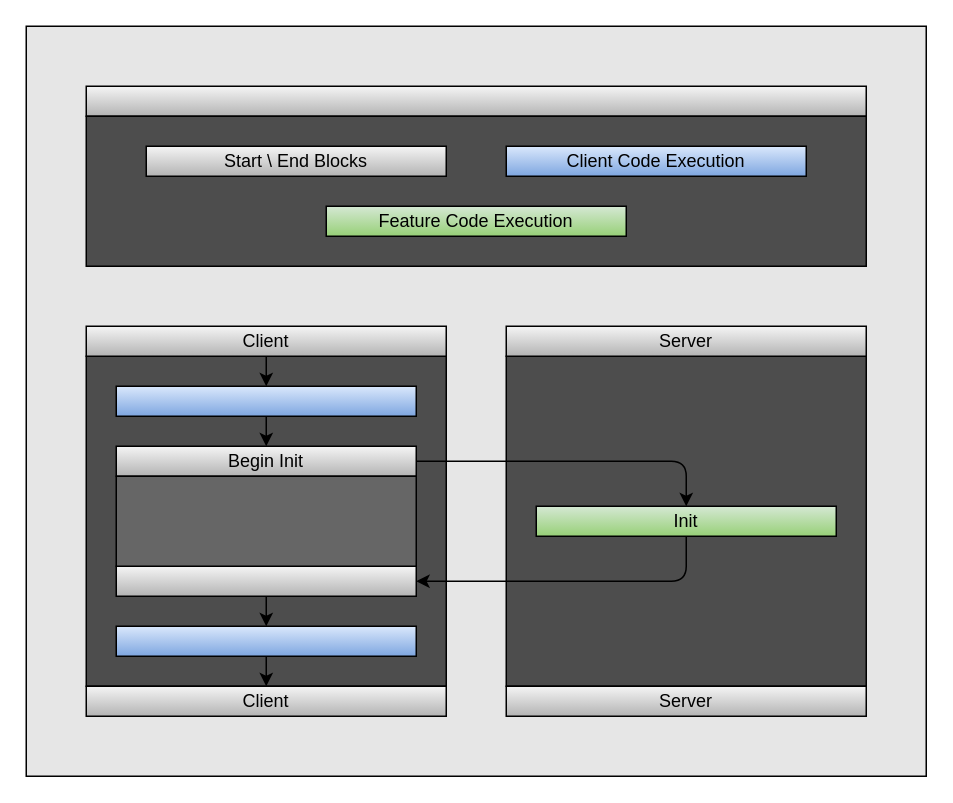
This 953x803 diagram has some shape labels left out. The shapes that lost their labels are listed below. From the top down, each one's box as (x1, y1, x2, y2) in pixels, then its label:
(85, 85, 866, 116): Legend
(115, 385, 416, 416): Generate Json Request Data
(115, 565, 416, 596): End Init
(115, 625, 416, 656): Manipulate Json Response Data
